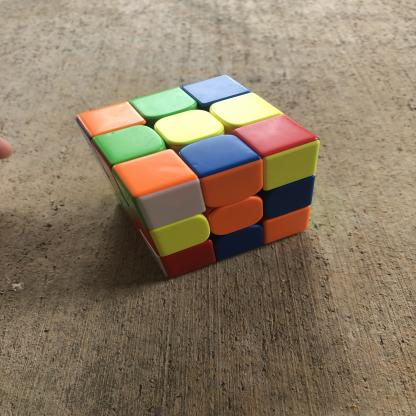UnsolvedCube: (68, 64, 338, 271)
